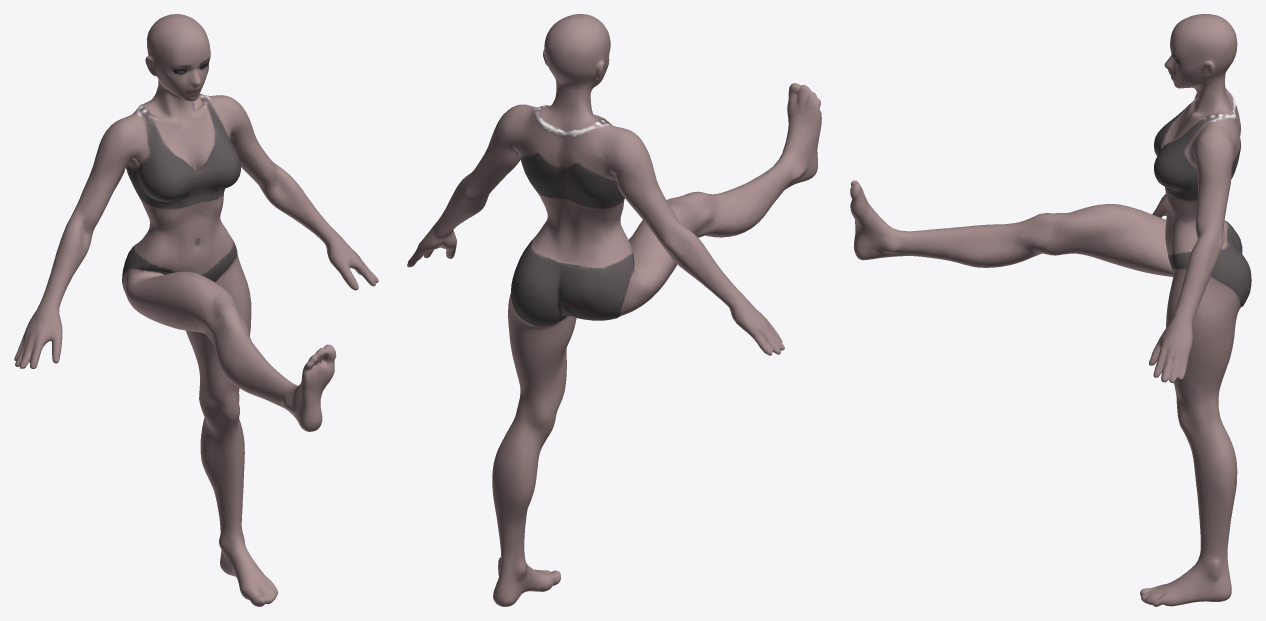
The model's file is world_target-ThighL-90.glb.
The picture shows the model from 3 angles, left to right: view 1: azimuth 30°, elevation 25°; view 2: azimuth 150°, elevation 25°; view 3: azimuth 270°, elevation 25°; orthographic projection. The views are drawn at different scales.
Visible parts, largest first — view 1: world_target-ThighL-90; view 2: world_target-ThighL-90; view 3: world_target-ThighL-90.
Part boxes in pixels (left/top/right/bottom): world_target-ThighL-90: left=14, top=14, right=378, bottom=606; world_target-ThighL-90: left=407, top=14, right=821, bottom=606; world_target-ThighL-90: left=850, top=14, right=1251, bottom=606.
Size of the model in its own units: 0.6508 by 1 by 0.653.
Materials: 1 (1 with a texture image).
